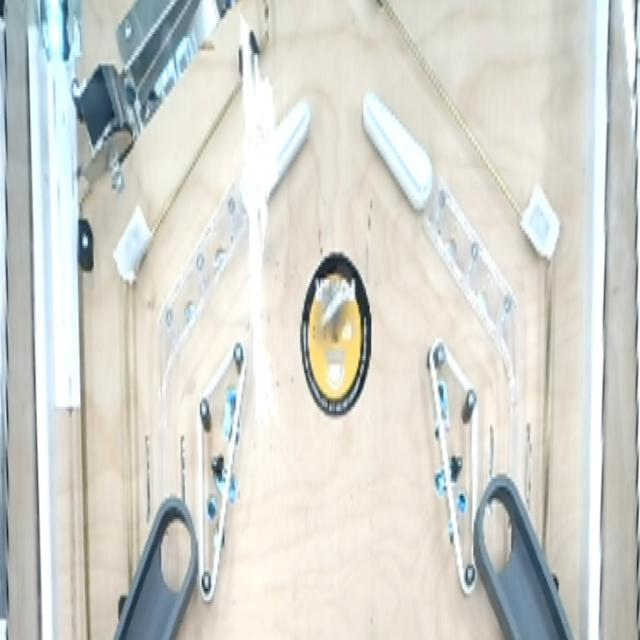flipper-left: (358, 82, 437, 235)
flipper-right: (236, 87, 315, 238)
